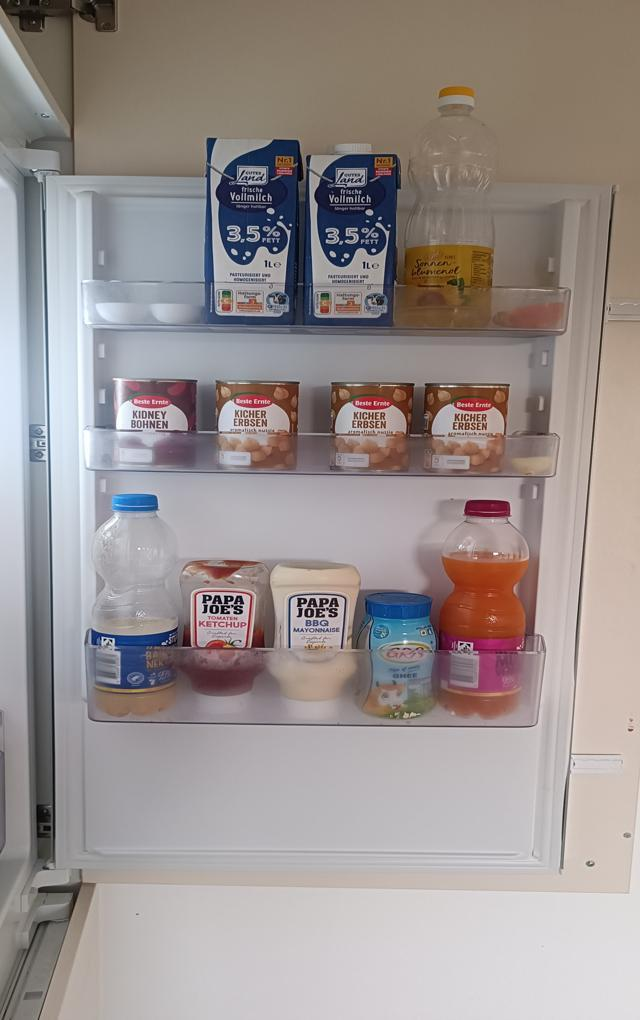bananajuice: (92, 493, 181, 722)
chickpeas: (215, 376, 301, 475), (328, 381, 414, 476), (423, 383, 508, 474)
ghee: (357, 590, 437, 723)
kidneybeans: (112, 377, 200, 470)
mayoniasie: (268, 561, 358, 723)
milk: (203, 132, 301, 331), (305, 139, 398, 329)
oil: (411, 85, 499, 334)
orangejuice: (441, 500, 532, 720)
tomatoketchup: (182, 559, 268, 715)
